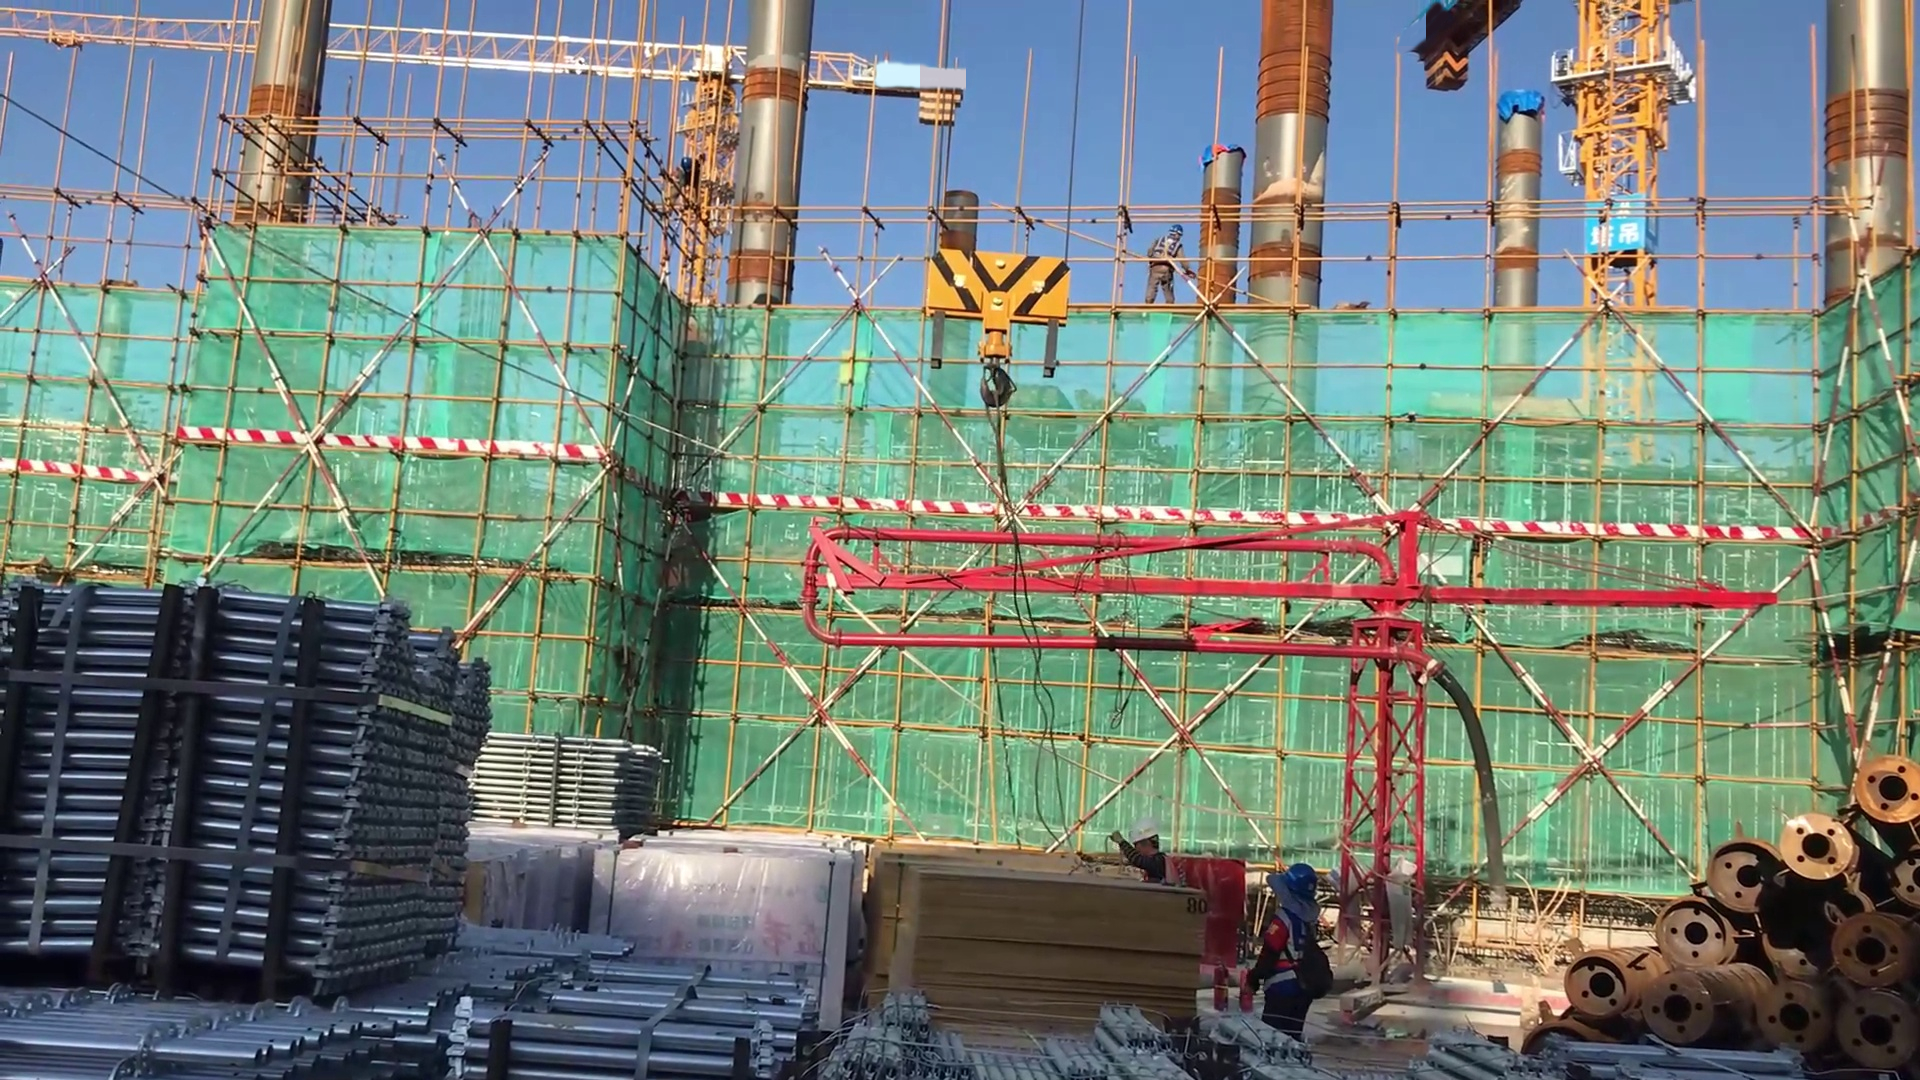board: (869, 840, 1204, 1054)
helmet: (1278, 860, 1319, 903), (1126, 823, 1161, 847), (1167, 221, 1184, 243)
hook: (920, 227, 1068, 469)
person: (1238, 858, 1343, 1056), (1077, 826, 1182, 876), (1137, 219, 1193, 309)
scaffold: (1, 602, 488, 986), (1, 934, 602, 1080), (448, 937, 823, 1071), (822, 992, 1215, 1080), (1418, 1013, 1805, 1080), (472, 717, 666, 846)
slogan: (1586, 203, 1661, 260)
vest: (1264, 904, 1322, 1017), (1155, 234, 1180, 266)
